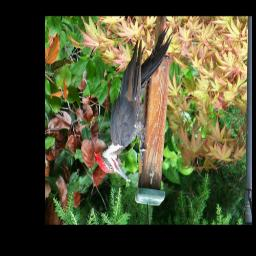Woodpecker: (94, 27, 173, 183)
